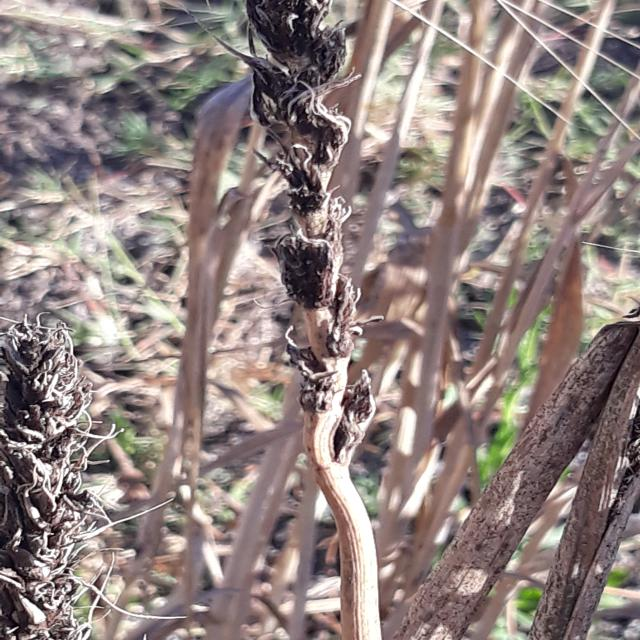loose_charred: (182, 4, 434, 492), (401, 274, 640, 640), (2, 282, 158, 640)
